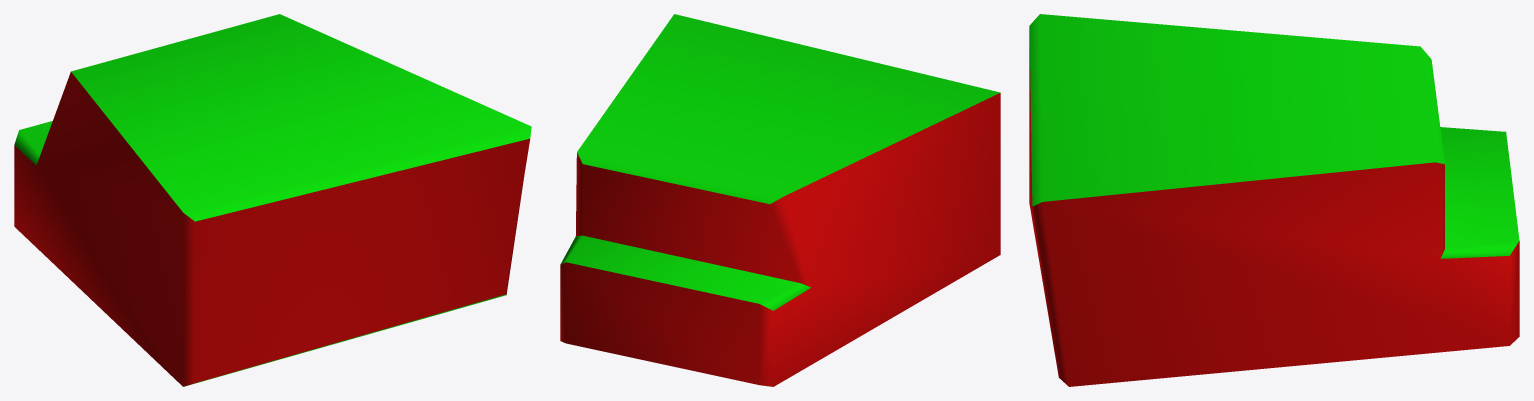
Rendered from M_Ressource_Block_D.FBX.
The picture shows the model from 3 angles, left to right: view 1: azimuth 30°, elevation 25°; view 2: azimuth 150°, elevation 25°; view 3: azimuth 270°, elevation 25°; orthographic projection. The views are drawn at different scales.
Parts seen in each view (by area): view 1: Ressource_Block_D; view 2: Ressource_Block_D; view 3: Ressource_Block_D.
Boxes of the visible parts, x1,y1,x2,y2 form: Ressource_Block_D: (14, 14, 531, 386); Ressource_Block_D: (560, 14, 1000, 386); Ressource_Block_D: (1029, 14, 1519, 386).
Size of the model in its own units: 105 by 50.21 by 116.
